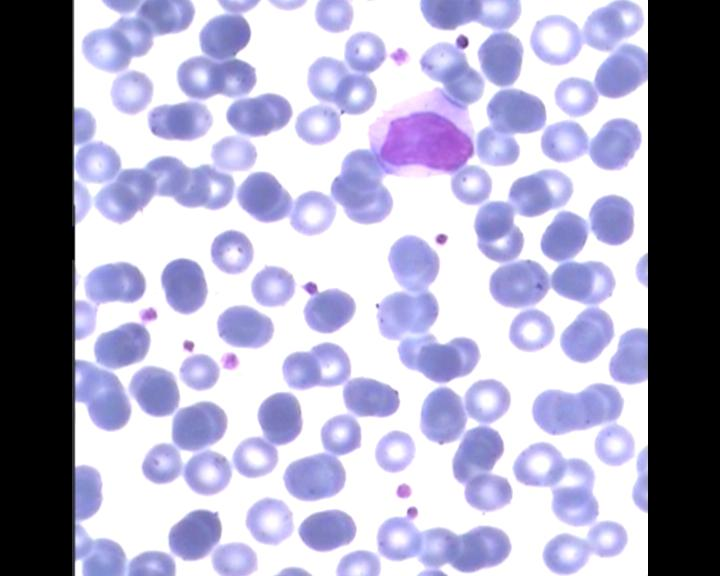mono: (364, 83, 478, 174)
